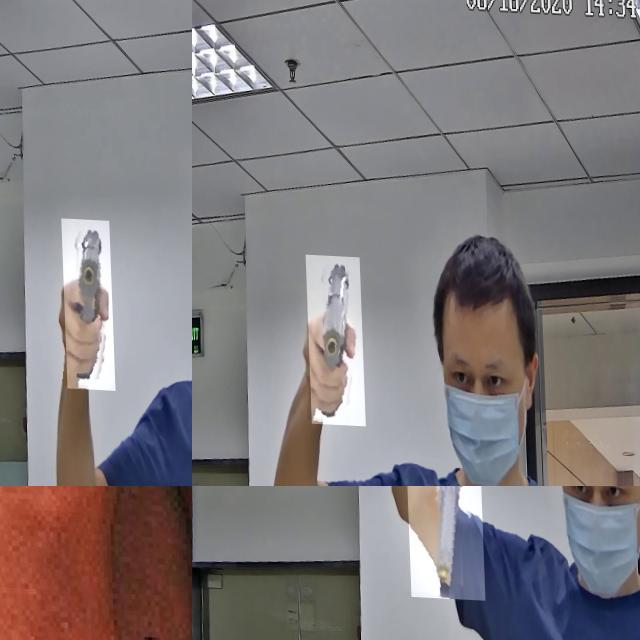-: (34, 486, 192, 604)
gun-knife-thesis - v11 Yolov5 augmented: (304, 252, 362, 423), (400, 486, 481, 604), (58, 215, 112, 388)
